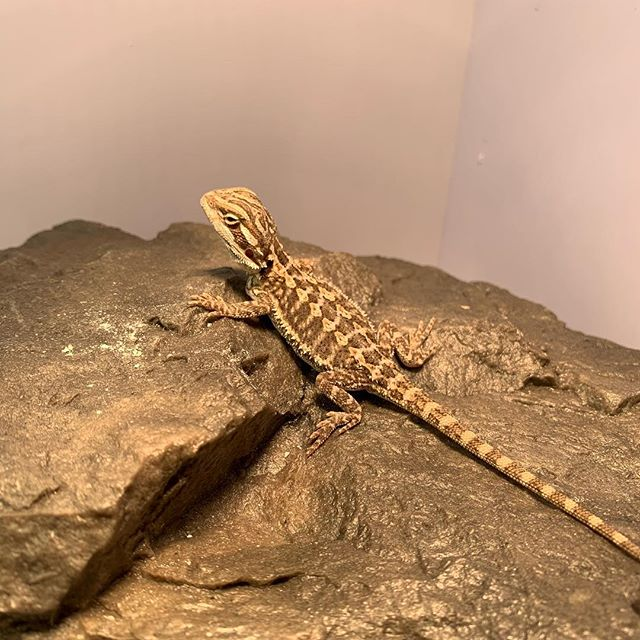bearded: (183, 184, 640, 562)
